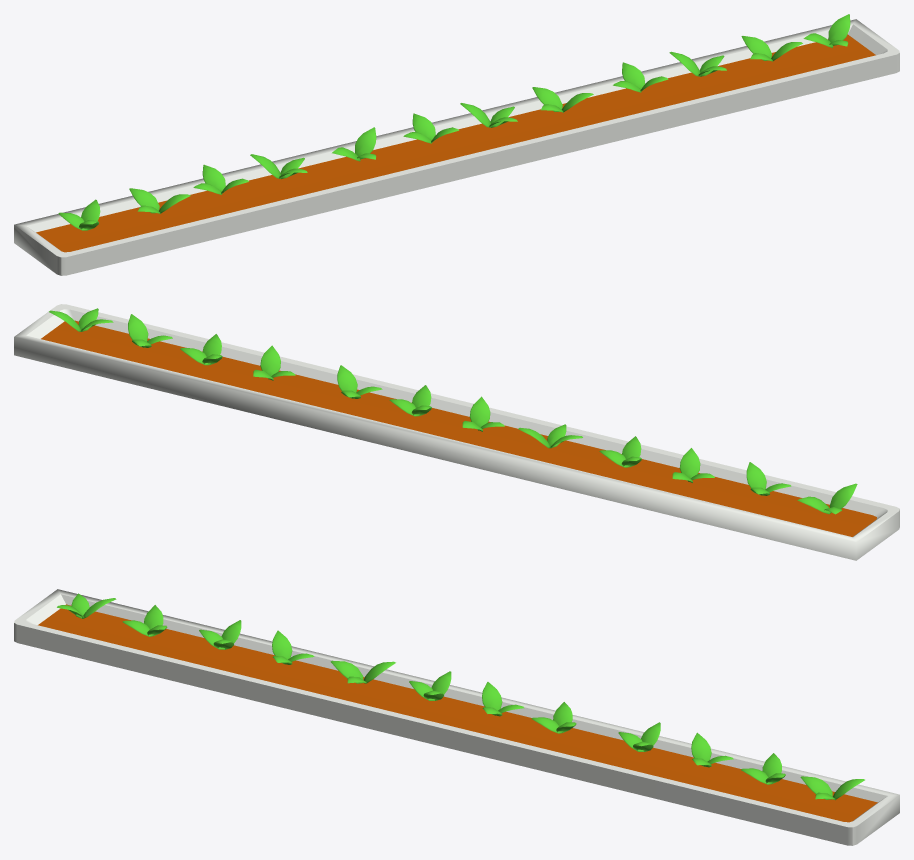
File: TreeTub4.fbx
3 views of the same model, one above another, from view 1: azimuth 30°, elevation 25°; view 2: azimuth 150°, elevation 25°; view 3: azimuth 330°, elevation 25° (orthographic).
Parts seen in each view (by area): view 1: TreeTub; view 2: TreeTub; view 3: TreeTub.
Part boxes in pixels (x1=…): TreeTub: x1=14, y1=14, x2=899, y2=275; TreeTub: x1=14, y1=304, x2=899, y2=560; TreeTub: x1=14, y1=589, x2=899, y2=845.
Bounding box in the file's own units: 1700 × 76.19 × 162.
Materials: 1 (1 with a texture image).
